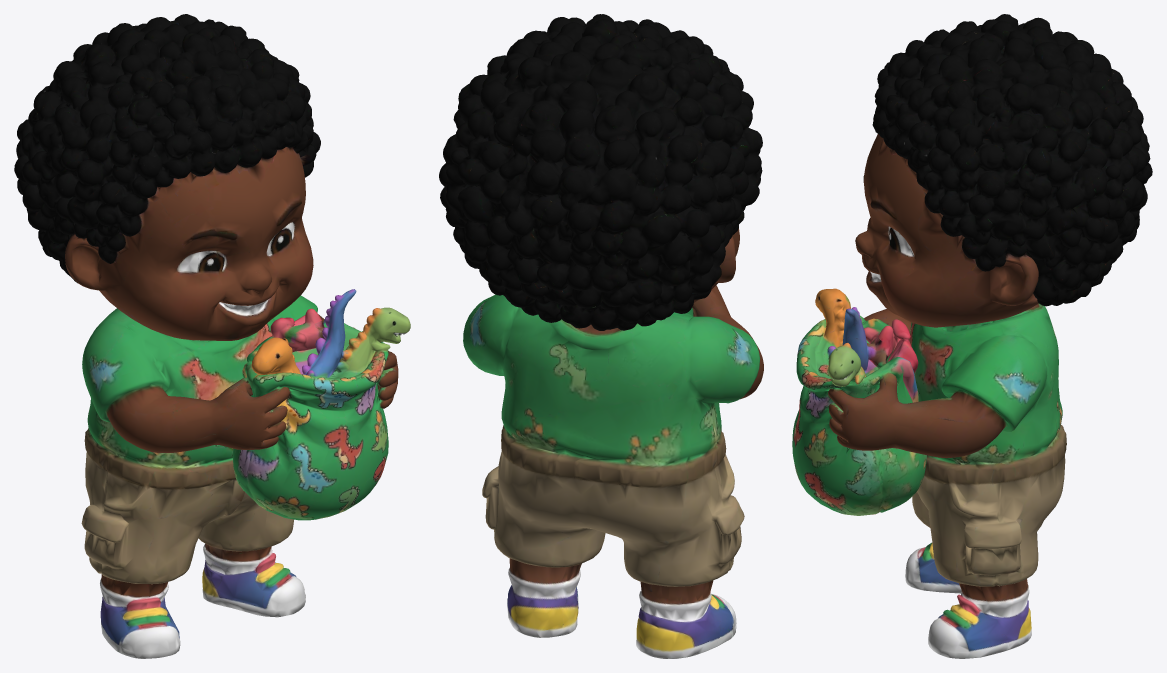
Rendered from giant-baby.glb.
The picture shows the model from 3 angles, left to right: view 1: azimuth 30°, elevation 25°; view 2: azimuth 150°, elevation 25°; view 3: azimuth 270°, elevation 25°; orthographic projection. The views are drawn at different scales.
Size of the model in its own units: 0.9775 by 1.9 by 1.08.
1 material, 1 textured.
